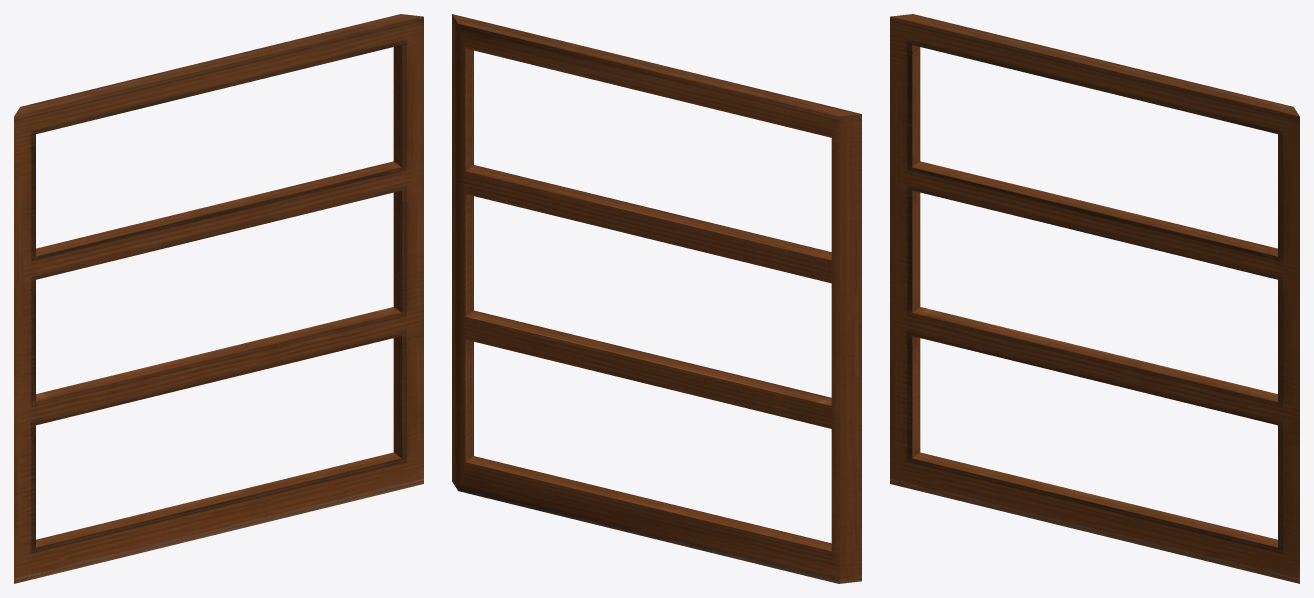
The model's file is link_8__vertical_front_panel-77.glb.
3 renders of one model, left to right at view 1: azimuth 30°, elevation 25°; view 2: azimuth 150°, elevation 25°; view 3: azimuth 330°, elevation 25°, orthographic.
Parts seen in each view (by area): view 1: world; view 2: world; view 3: world.
Boxes of the visible parts, x1,y1,x2,y2 form: world: (14, 14, 423, 583); world: (452, 14, 861, 583); world: (890, 14, 1299, 583).
Size of the model in its own units: 0.5881 by 0.6406 by 0.021.
1 material, 1 textured.
